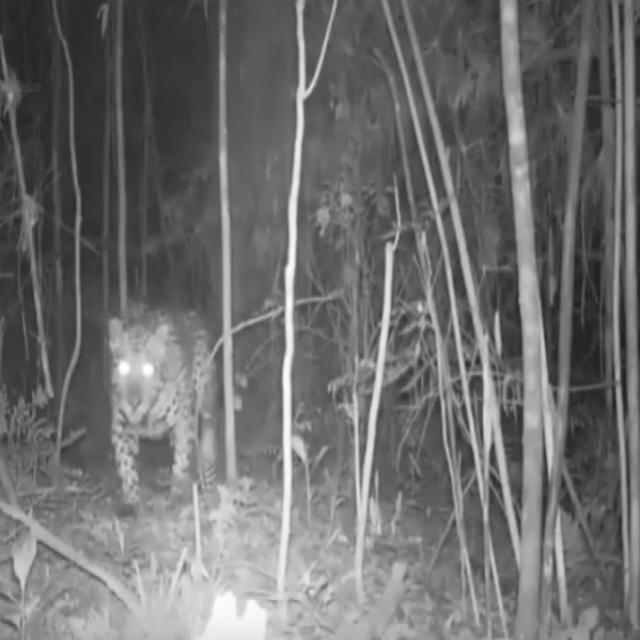Jaguar: (107, 303, 222, 519)
